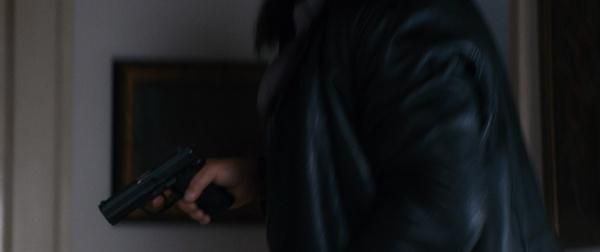Gun: (99, 143, 234, 227)
